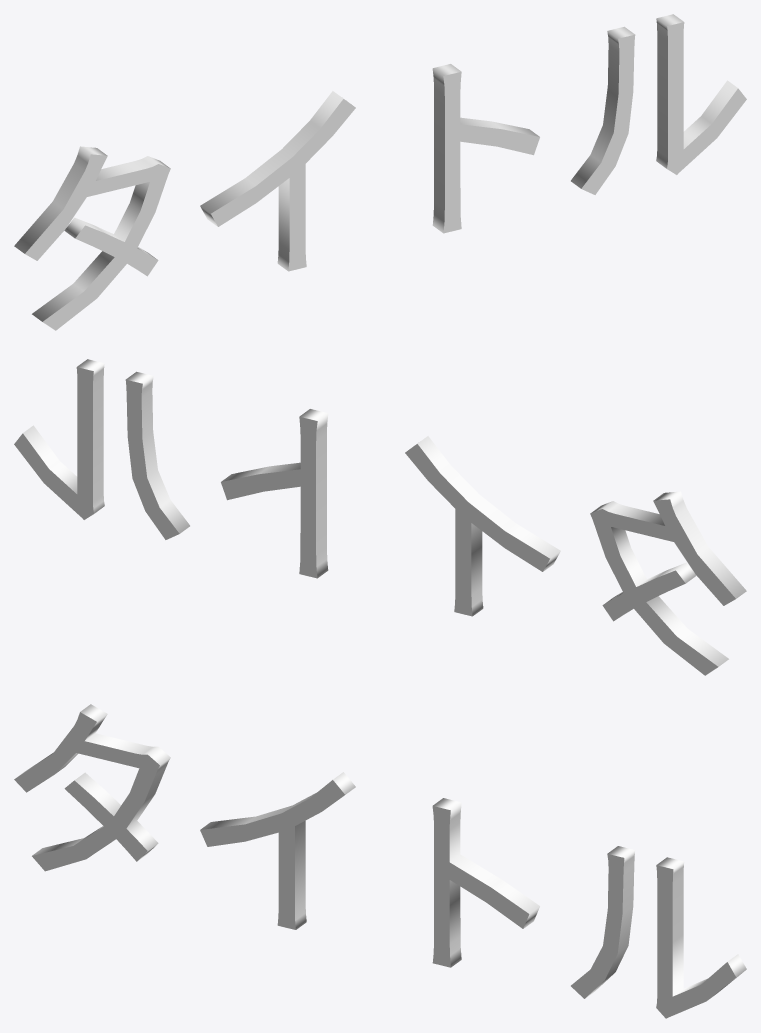
File: TitleFont.obj
3 views of the same model, one above another, from view 1: azimuth 30°, elevation 25°; view 2: azimuth 150°, elevation 25°; view 3: azimuth 330°, elevation 25° (orthographic).
Visible parts, largest first — view 1: テキスト; view 2: テキスト; view 3: テキスト.
Boxes of the visible parts, bbox=[...] form: テキスト: bbox=[14, 14, 746, 330]; テキスト: bbox=[14, 359, 746, 675]; テキスト: bbox=[14, 704, 746, 1018].
Bounding box in the file's own units: 3.86 × 0.858 × 0.1.
Materials: 1 (1 with a texture image).
